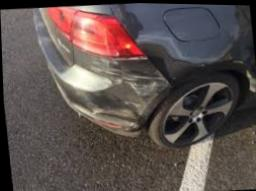Bumper: (69, 41, 171, 137)
